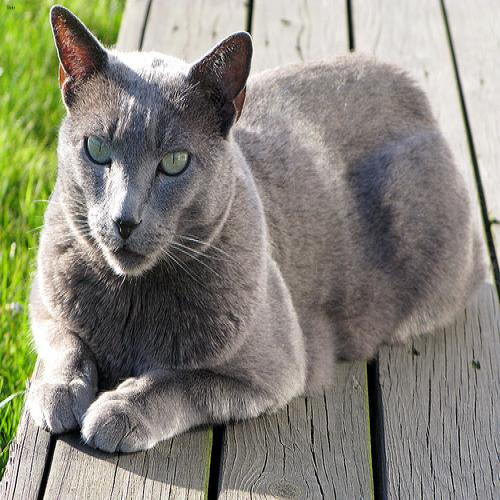rblue: (30, 1, 247, 287)
